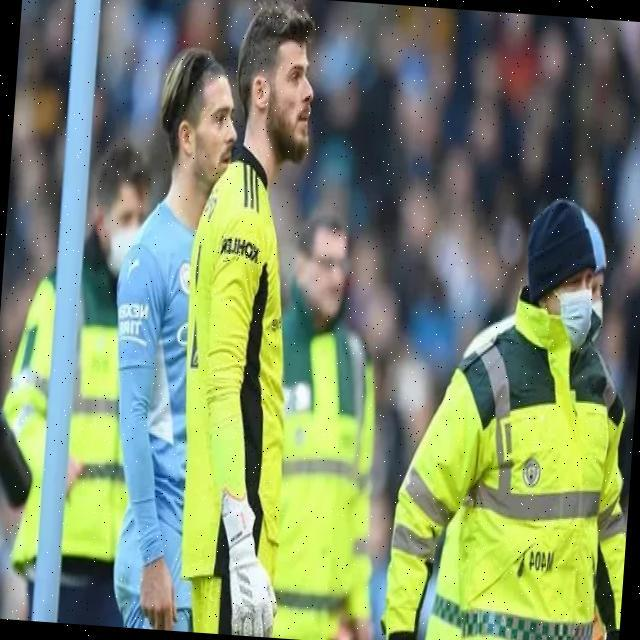Kohler: (216, 234, 261, 265)
